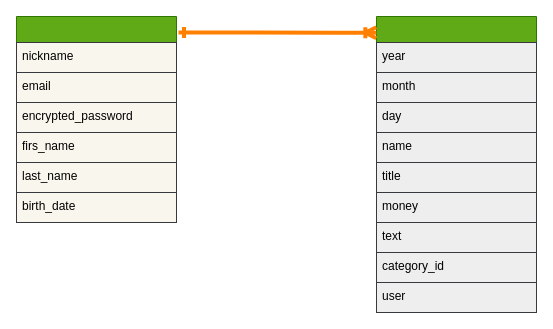
This 553x329 diagram has some shape labels left out. Here are the shapes that lost their labels. From the top down, the box of each, then its label:
(16, 16, 176, 222): users
(376, 16, 536, 312): contents
